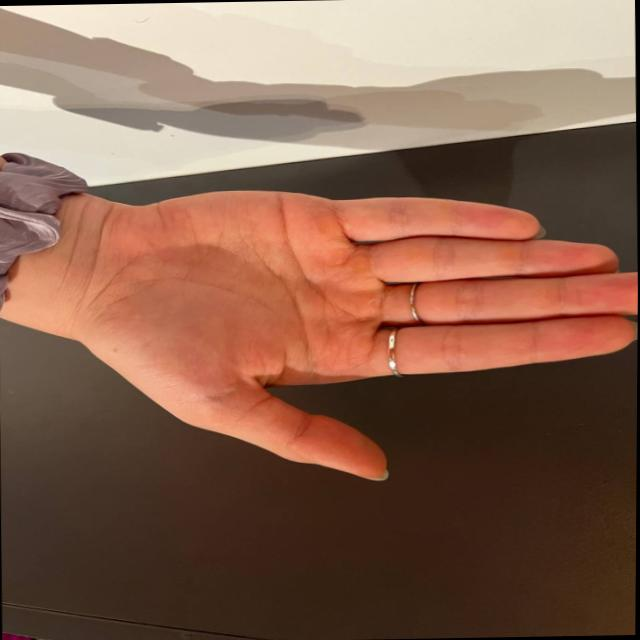v: (90, 186, 637, 494)
